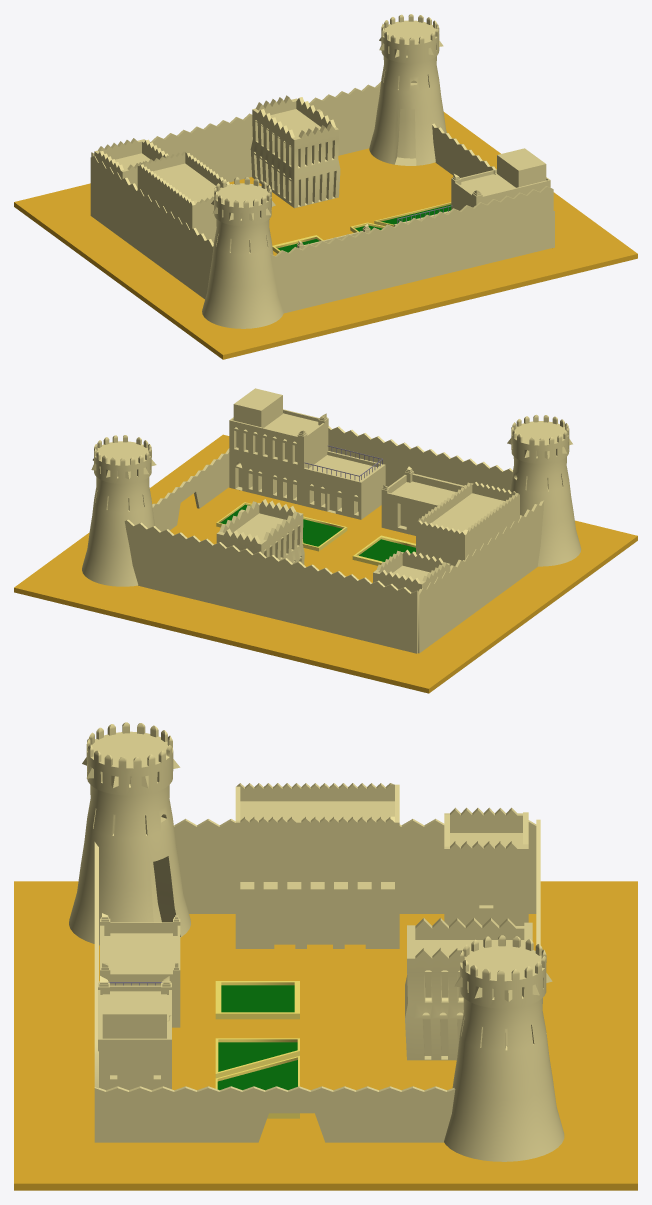
The model's file is Qasr al hosn.fbx.
3 renders of one model, top to bottom at view 1: azimuth 30°, elevation 25°; view 2: azimuth 150°, elevation 25°; view 3: azimuth 270°, elevation 25°, orthographic. The views are drawn at different scales.
Parts seen in each view (by area): view 1: Ground, Cube.006, Tower, Tower 2, Building 5, Cube.009, Cube.011, Building 1, Building 4, Building 2, Cube.018, Grass plot 3; view 2: Ground, Cube.011, Building 4, Cube.009, Tower 2, Tower, Building 1, Cube.006, Building 5, Building 3, Cube.018, Building 2 (+2 smaller); view 3: Ground, Building 1, Tower 2, Tower, Cube.018, Cube.009, Building 2, Building 5, Building 4, Building 3, Grass plot 1, Grass plot 2 (+2 smaller).
Part boxes in pixels (x1,y1,x2,y2): Ground: (14, 112, 637, 359); Cube.006: (270, 186, 553, 313); Tower: (202, 177, 283, 328); Tower 2: (369, 14, 446, 165); Building 5: (250, 95, 340, 208); Cube.009: (90, 156, 213, 299); Cube.011: (91, 82, 380, 182); Building 1: (137, 151, 231, 243); Building 4: (394, 148, 550, 226); Building 2: (94, 138, 168, 187); Cube.018: (432, 123, 554, 248); Grass plot 3: (374, 202, 451, 226); Ground: (14, 434, 637, 693); Cube.011: (124, 519, 418, 653); Building 4: (229, 388, 385, 519); Cube.009: (418, 500, 544, 653); Tower 2: (82, 435, 156, 586); Tower: (507, 414, 581, 566); Building 1: (416, 482, 519, 565); Cube.006: (328, 426, 512, 491); Building 5: (216, 499, 304, 564); Building 3: (381, 466, 463, 535); Cube.018: (152, 448, 229, 531); Building 2: (373, 549, 450, 592); Ground: (14, 881, 637, 1190); Building 1: (235, 783, 399, 948); Tower 2: (444, 935, 564, 1161); Tower: (69, 722, 190, 945); Cube.018: (94, 1086, 455, 1142); Cube.009: (173, 818, 536, 913); Building 2: (444, 807, 528, 925); Building 5: (405, 918, 532, 1060); Building 4: (98, 976, 171, 1090); Building 3: (100, 913, 180, 1027); Grass plot 1: (215, 981, 299, 1019); Grass plot 2: (215, 1038, 299, 1078).
Size of the model in its own units: 13786 by 4075 by 12030.
